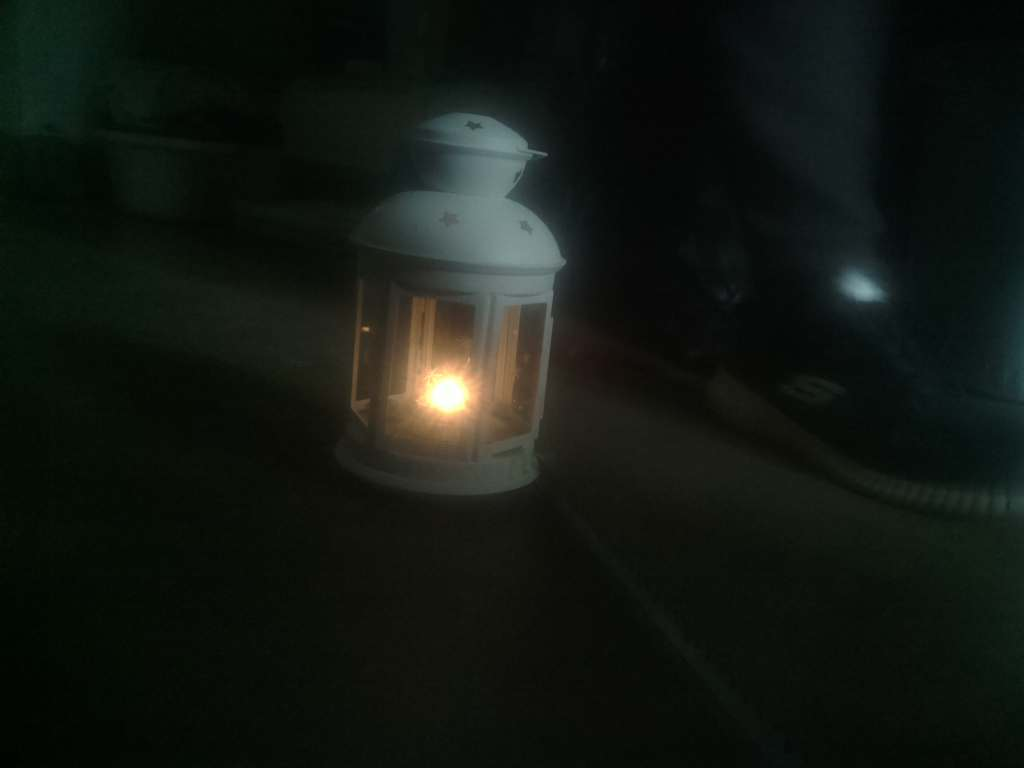fire: (395, 357, 507, 423)
